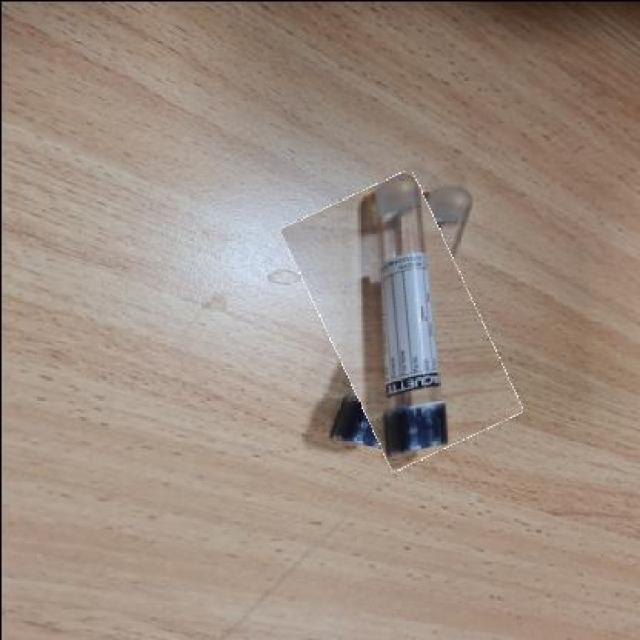Experimental-tube: (302, 176, 496, 461)
